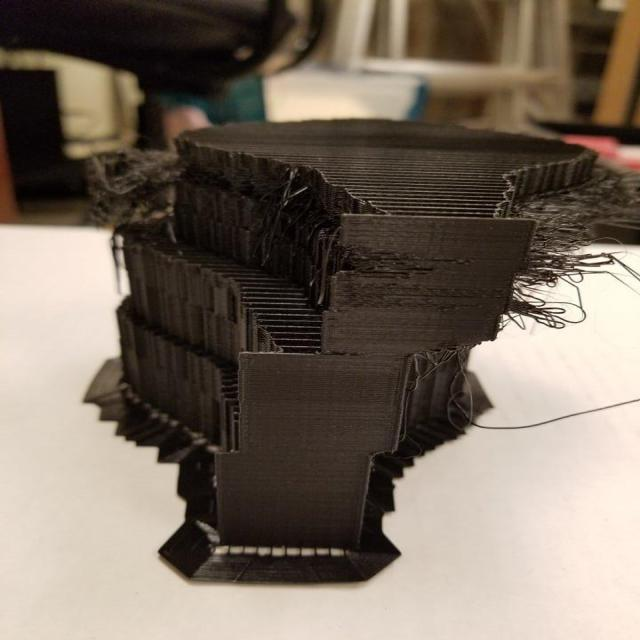spaghetti: (516, 192, 640, 326), (83, 132, 204, 223), (334, 234, 456, 320)
